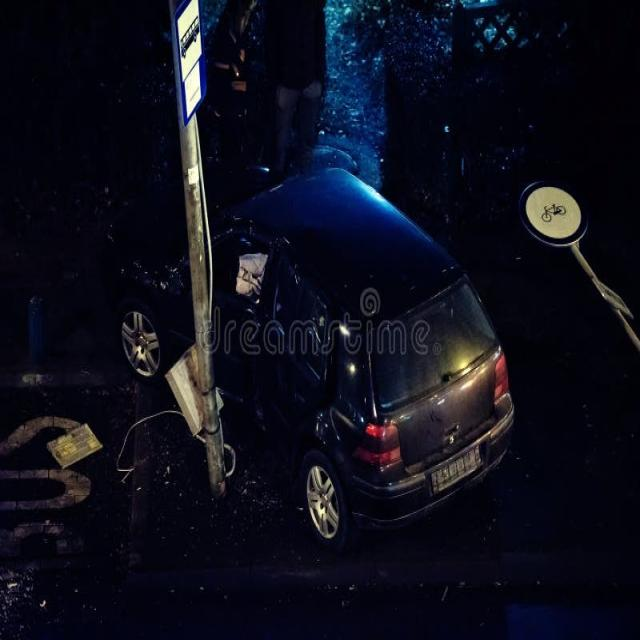Accident: (116, 158, 523, 549)
